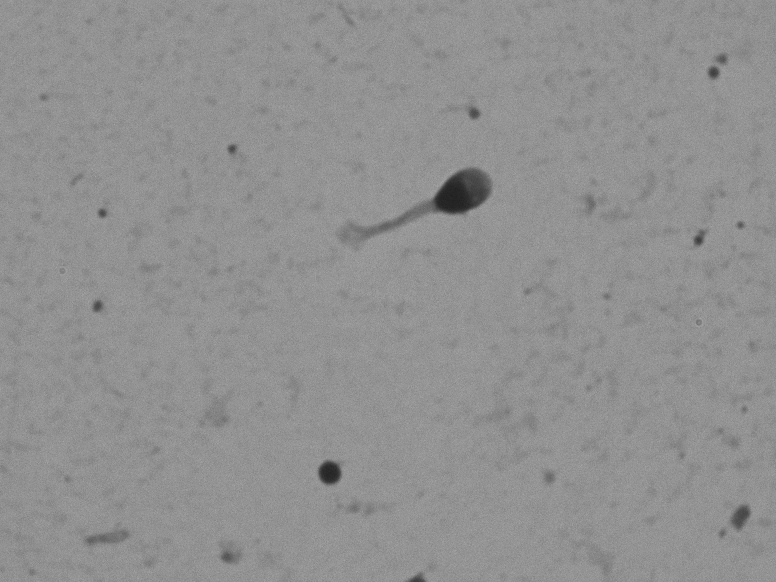Abnormal: (292, 136, 518, 269)
